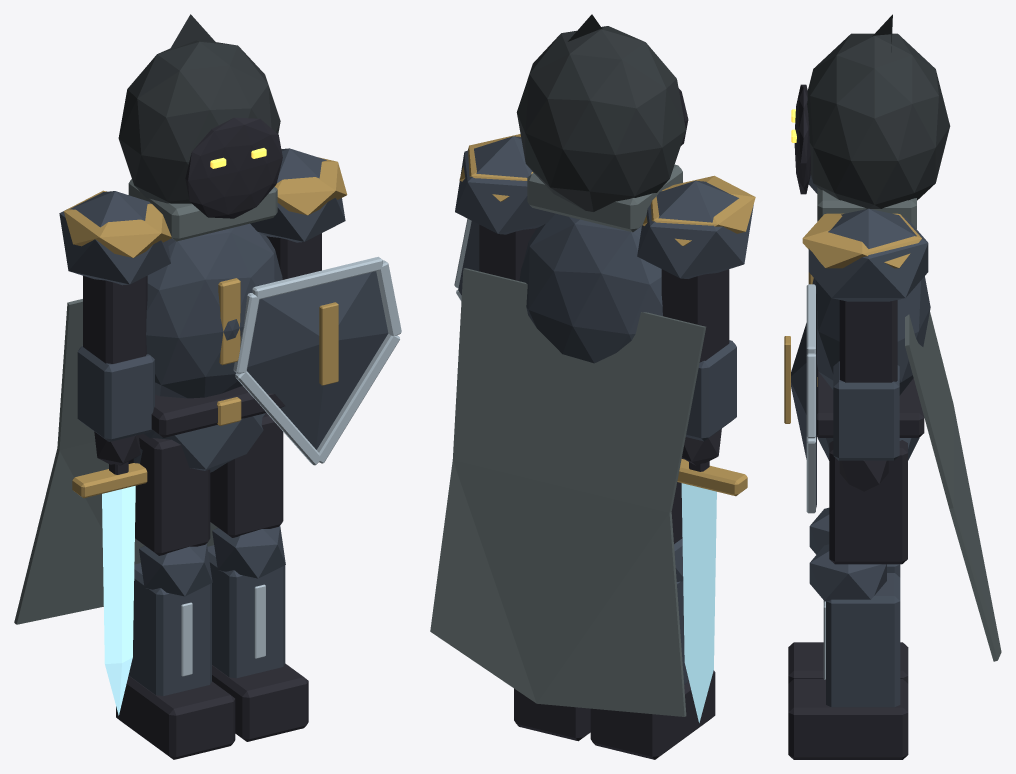
Rendered from enemy.glb.
3 views of the same model, side by side, from view 1: azimuth 30°, elevation 25°; view 2: azimuth 150°, elevation 25°; view 3: azimuth 270°, elevation 25° (orthographic). The views are drawn at different scales.
Visible parts, largest first — view 1: Hood volume, Breastplate, Kite shield, Cape panels, Right greave, Hood face void, Right thigh, Left greave, Right boot, Left thigh, Blade, Right gauntlet (+24 smaller); view 2: Cape panels, Hood volume, Breastplate, Right shoulder, Blade, Left shoulder, Right boot, Right upper arm, Right gauntlet, Cloak neck, Left boot, Left upper arm (+5 smaller); view 3: Hood volume, Left greave, Cape panels, Left boot, Left thigh, Left shoulder, Left gauntlet, Left upper arm, Breastplate, Left knee, Left shoulder trim, Waist belt (+10 smaller).
Boxes of the visible parts, x1,y1,x2,y2 form: Hood volume: (118, 40, 280, 203); Breastplate: (146, 223, 282, 398); Kite shield: (247, 271, 388, 449); Cape panels: (14, 299, 217, 624); Right greave: (128, 563, 211, 695); Hood face void: (185, 117, 282, 218); Right thigh: (128, 433, 210, 555); Left greave: (207, 545, 285, 678); Right boot: (116, 675, 235, 759); Left thigh: (210, 413, 283, 537); Blade: (102, 486, 135, 715); Right gauntlet: (77, 345, 154, 441); Cape panels: (430, 268, 706, 716); Hood volume: (516, 26, 685, 211); Breastplate: (519, 213, 662, 363); Right shoulder: (637, 180, 753, 278); Blade: (681, 483, 716, 722); Left shoulder: (455, 136, 555, 234); Right boot: (590, 670, 715, 759); Right upper arm: (661, 269, 729, 362); Right gauntlet: (685, 340, 736, 441); Cloak neck: (527, 164, 682, 232); Left boot: (514, 688, 590, 741); Left upper arm: (479, 224, 537, 280); Hood volume: (807, 33, 950, 208); Left greave: (826, 573, 900, 707); Cape panels: (905, 312, 1001, 661); Left boot: (788, 679, 908, 759); Left thigh: (829, 440, 907, 564); Left shoulder: (808, 208, 928, 301); Left gauntlet: (833, 361, 899, 460); Left upper arm: (839, 300, 897, 382); Breastplate: (812, 276, 930, 395); Left knee: (809, 544, 886, 601); Left shoulder trim: (802, 213, 921, 268); Waist belt: (817, 365, 924, 437).
Size of the model in its own units: 0.976 by 2.13 by 0.588.
